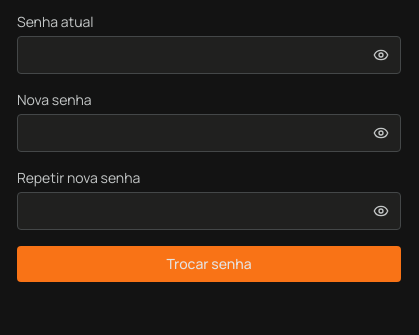
it: ChangePasswordForm › mostra o erro da API e mantém os campos preenchidos
Type "senha-atual-123" into the password field labelled "Senha atual".
click(209, 55); type("senha-atual-123")  # box left=17, top=36, right=401, bottom=74
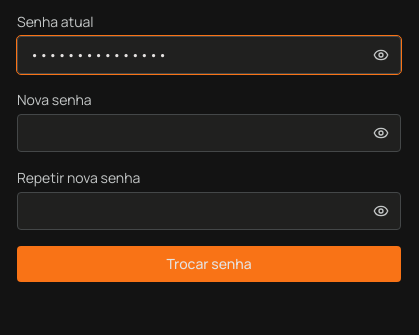
Type "uma-senha-nova-forte" into the password field labelled "Nova senha".
click(209, 133); type("uma-senha-nova-forte")  # box left=17, top=114, right=401, bottom=152
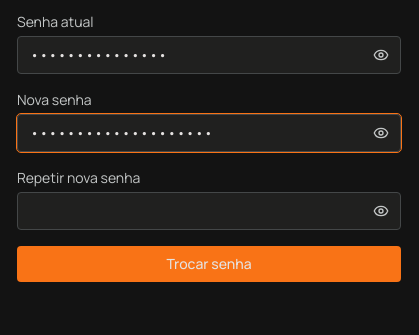
Type "uma-senha-nova-forte" into the password field labelled "Repetir nova senha".
click(209, 211); type("uma-senha-nova-forte")  # box left=17, top=192, right=401, bottom=230
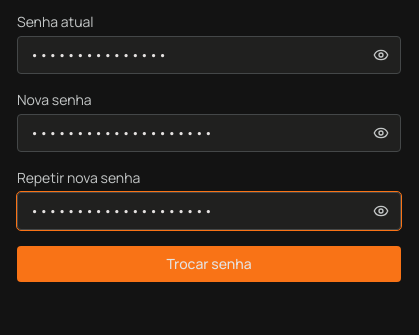
Click the button "Trocar senha".
click(209, 264)  # box left=17, top=246, right=401, bottom=282
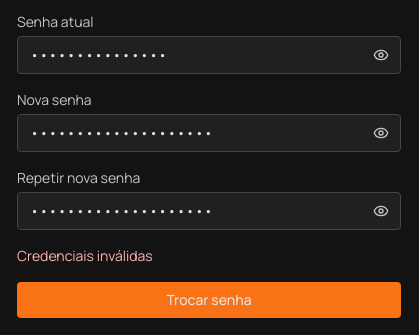
Expected: the message reads "Credenciais inválidas", left=17, top=246, right=153, bottom=265
